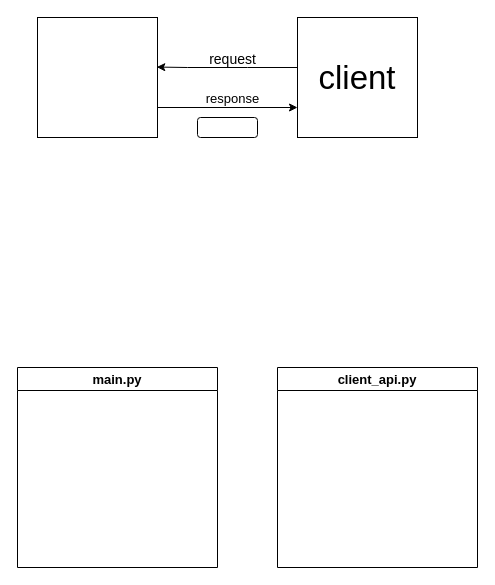
Some shapes in this 495 by 585 pixel diagram are drawn without their labels. Here are the shapes that lost their labels. From the top down, the centre of each, then its label:
At point (97, 77): "API".
At point (227, 127): "JSON".
